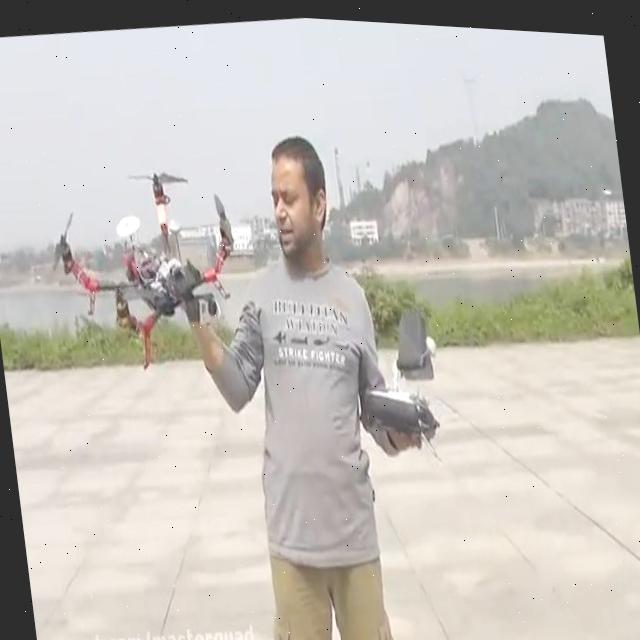drone: (35, 148, 251, 383)
